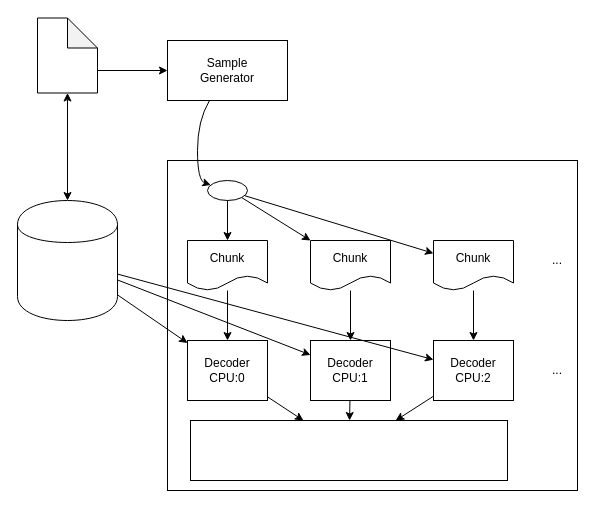
Some shapes in this 595 by 508 pixel diagram are drawn without their labels. Each missing label, with the centre of its shape:
"Image data" goes at point (67, 260).
"Metadata" goes at point (67, 55).
"TFRecord File" goes at point (349, 450).
